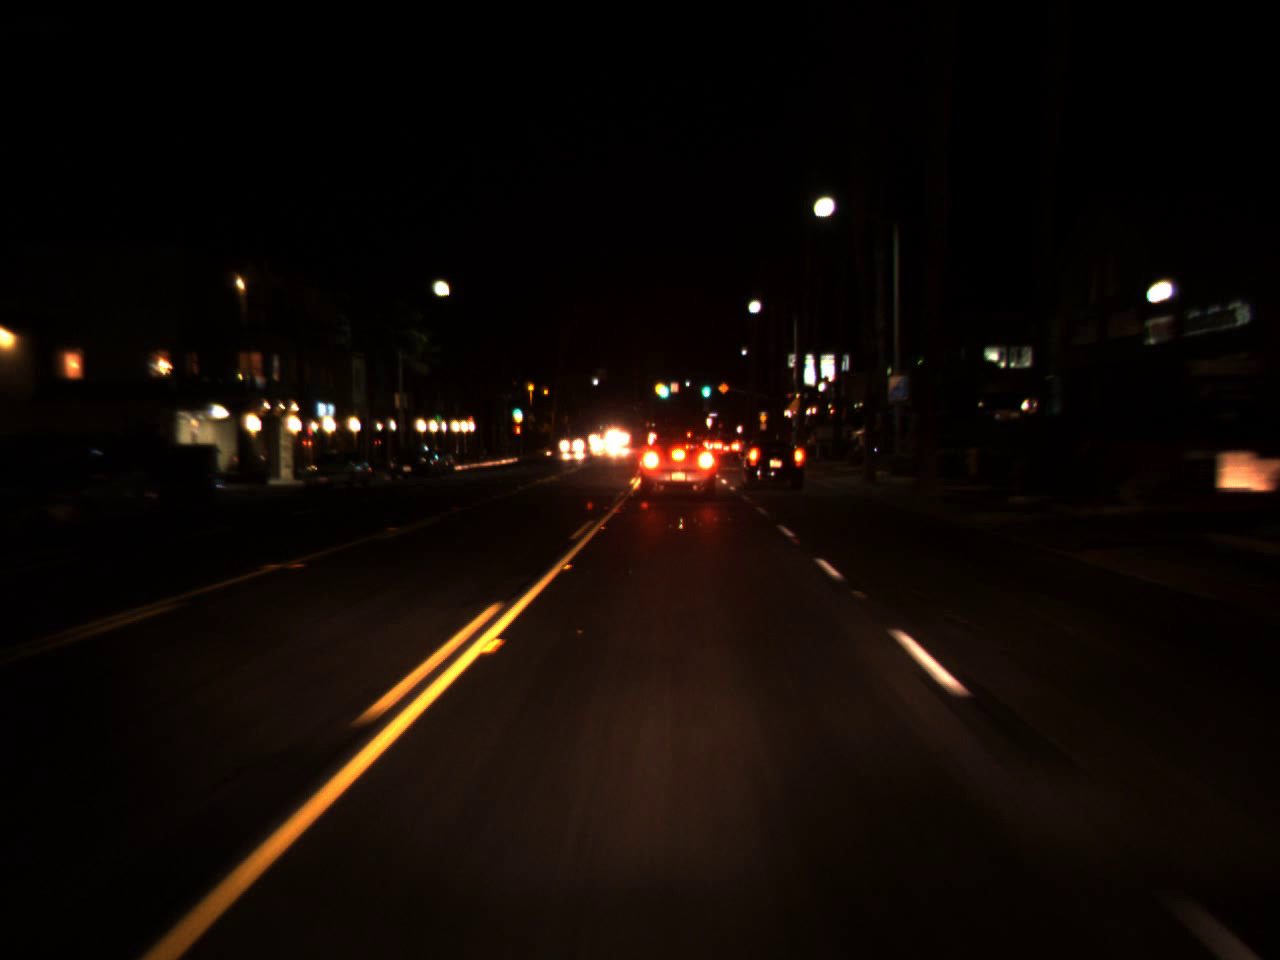go: (696, 369, 714, 402), (656, 373, 668, 400), (510, 401, 522, 416)
